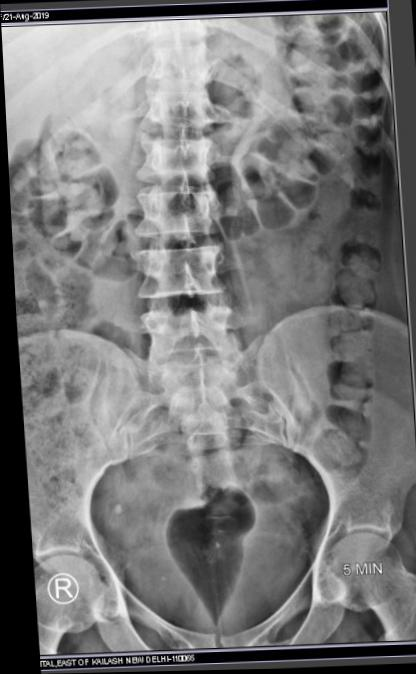vertebrae: (132, 85, 222, 137)
